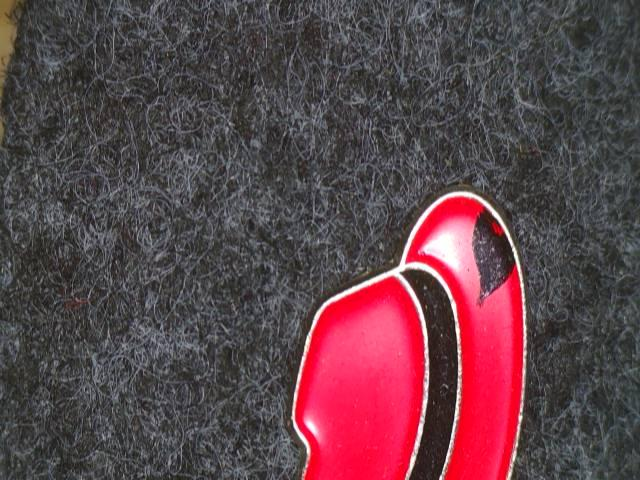Red-Hat: (266, 145, 574, 480)
Scratch: (456, 183, 558, 354)
